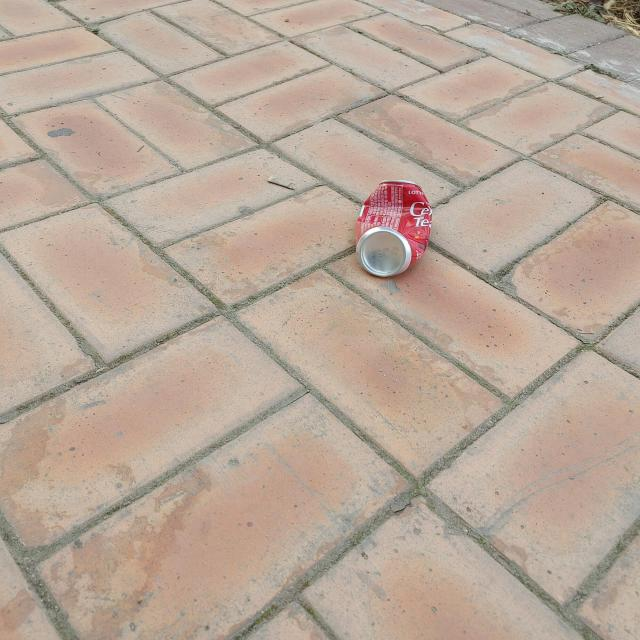can: (356, 179, 433, 277)
